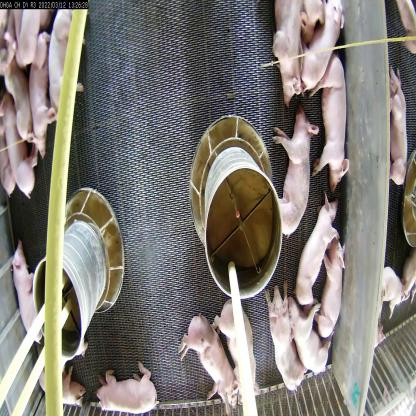Pig: (212, 283, 273, 414), (270, 110, 326, 242), (259, 281, 311, 410), (178, 319, 238, 415), (283, 275, 337, 381), (290, 0, 348, 94), (262, 0, 312, 100), (316, 55, 352, 190), (49, 0, 86, 129), (295, 200, 338, 303), (13, 231, 51, 346), (19, 30, 56, 141), (93, 360, 163, 416), (5, 97, 38, 203), (316, 252, 346, 334)
